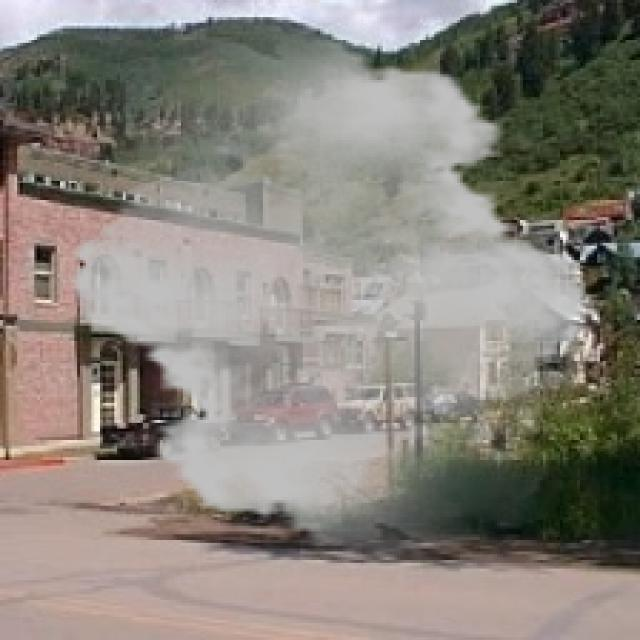Smoke: (49, 25, 608, 558)
